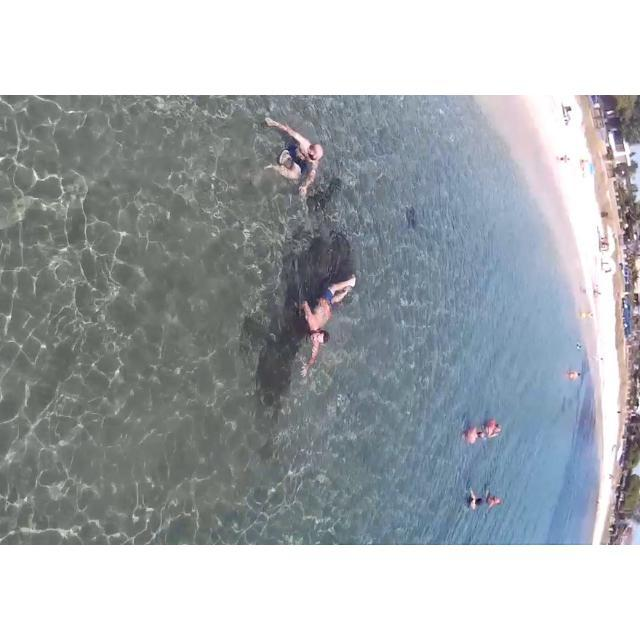human: (297, 251, 374, 379), (260, 108, 332, 225), (479, 415, 512, 442), (462, 478, 485, 514), (479, 492, 515, 509), (459, 418, 480, 447)
